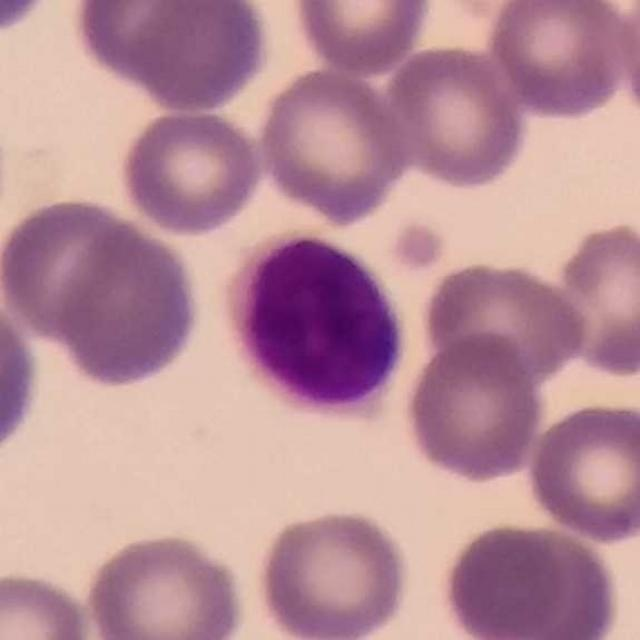Lymphocyte: (217, 227, 415, 426)
Platelets: (387, 213, 448, 278), (0, 0, 57, 39)
RBC: (49, 212, 205, 393), (253, 64, 413, 225), (378, 41, 530, 193), (400, 330, 548, 486), (1, 193, 150, 347), (252, 503, 414, 640), (420, 256, 591, 384), (115, 105, 265, 237), (81, 527, 250, 640), (437, 518, 582, 640), (524, 396, 640, 547), (123, 0, 275, 115), (483, 0, 623, 122), (489, 522, 618, 640), (547, 218, 640, 381), (66, 0, 232, 90), (288, 0, 436, 78), (0, 291, 43, 467), (0, 566, 95, 640)
